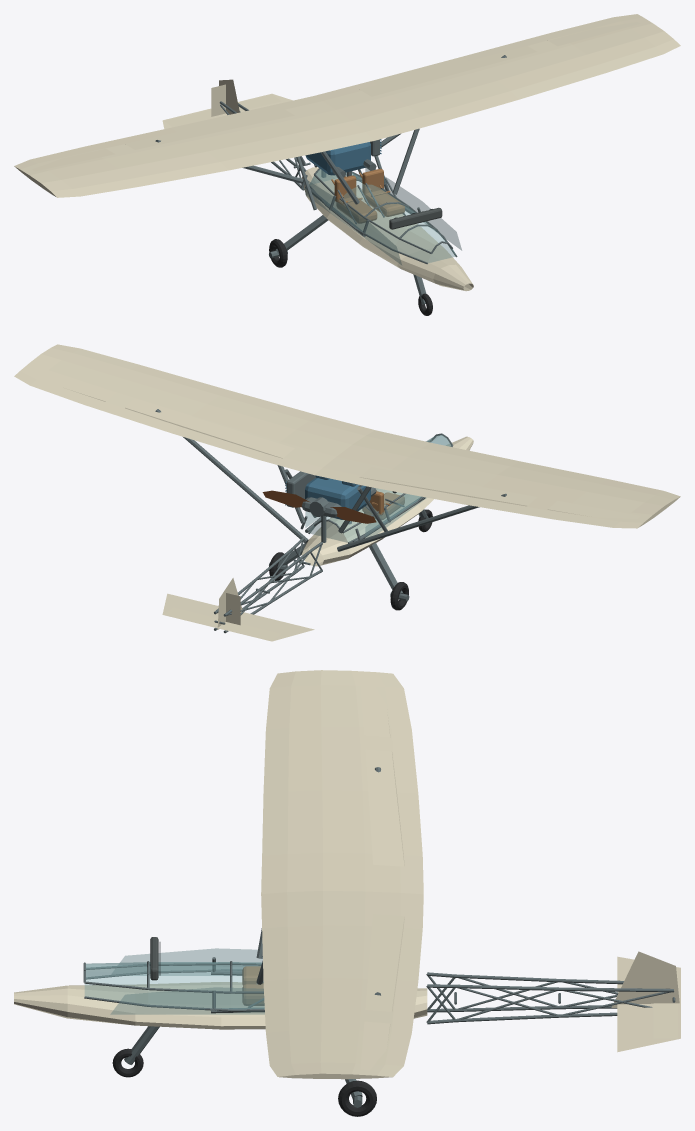
The model's file is rans_s12xl_lod2.glb.
3 renders of one model, top to bottom at view 1: azimuth 30°, elevation 25°; view 2: azimuth 150°, elevation 25°; view 3: azimuth 270°, elevation 25°, orthographic. The views are drawn at different scales.
Visible parts, largest first — view 1: High wing fabric · left panel, Closed two-seat clear canopy, Axle, Lap belt, flap_L, flap_R, Blue head cylinder, Elevator, aileron_L, Instrument panel, aileron_R; view 2: High wing fabric · left panel, Axle, flap_L, flap_R, Closed two-seat clear canopy, Blue head cylinder, Elevator, aileron_L, aileron_R, Lap belt; view 3: High wing fabric · left panel, Closed two-seat clear canopy, Axle, flap_R, flap_L, aileron_R, aileron_L, main_wheel.001, Elevator, Lap belt.
Boxes of the visible parts, x1=… form: High wing fabric · left panel: x1=14, y1=14, x2=680, y2=291; Closed two-seat clear canopy: x1=305, y1=168, x2=461, y2=264; Axle: x1=155, y1=55, x2=506, y2=304; Lap belt: x1=331, y1=168, x2=404, y2=223; flap_L: x1=360, y1=46, x2=536, y2=96; flap_R: x1=125, y1=108, x2=294, y2=149; Blue head cylinder: x1=305, y1=139, x2=381, y2=175; Elevator: x1=164, y1=94, x2=280, y2=127; aileron_L: x1=548, y1=21, x2=640, y2=46; Instrument panel: x1=389, y1=207, x2=442, y2=229; aileron_R: x1=32, y1=148, x2=114, y2=171; High wing fabric · left panel: x1=14, y1=344, x2=680, y2=641; Axle: x1=155, y1=409, x2=506, y2=633; flap_L: x1=125, y1=399, x2=294, y2=458; flap_R: x1=359, y1=467, x2=536, y2=506; Closed two-seat clear canopy: x1=305, y1=435, x2=451, y2=542; Blue head cylinder: x1=285, y1=475, x2=370, y2=519; Elevator: x1=164, y1=607, x2=280, y2=640; aileron_L: x1=32, y1=368, x2=114, y2=401; aileron_R: x1=547, y1=501, x2=640, y2=518; Lap belt: x1=362, y1=490, x2=404, y2=519; High wing fabric · left panel: x1=14, y1=670, x2=680, y2=1079; Closed two-seat clear canopy: x1=85, y1=948, x2=264, y2=1014; Axle: x1=83, y1=767, x2=675, y2=1107; flap_R: x1=365, y1=749, x2=404, y2=866; flap_L: x1=365, y1=914, x2=404, y2=1011; aileron_R: x1=360, y1=677, x2=390, y2=737; aileron_L: x1=360, y1=1021, x2=390, y2=1070; main_wheel.001: x1=338, y1=1080, x2=376, y2=1116; Elevator: x1=653, y1=968, x2=677, y2=1038; Lap belt: x1=242, y1=966, x2=264, y2=1005.
Bounding box in the file's own units: 9.45 × 2.24 × 6.6.
